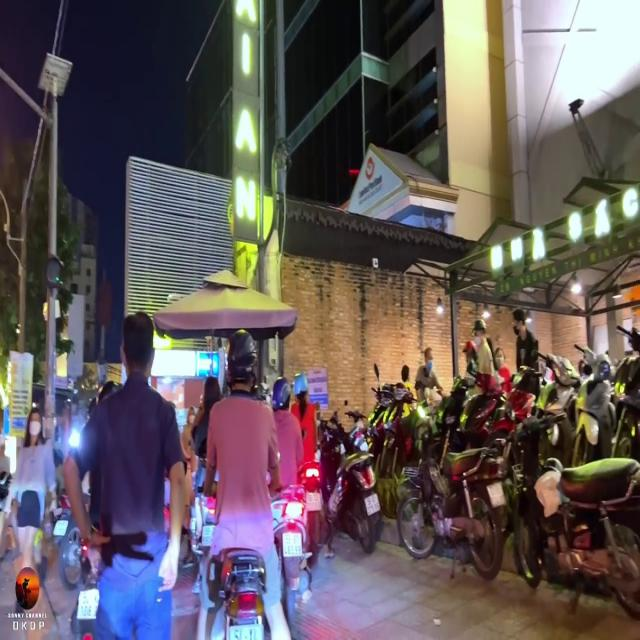bien_trang: (282, 526, 306, 560), (363, 493, 387, 518), (307, 483, 322, 510)
